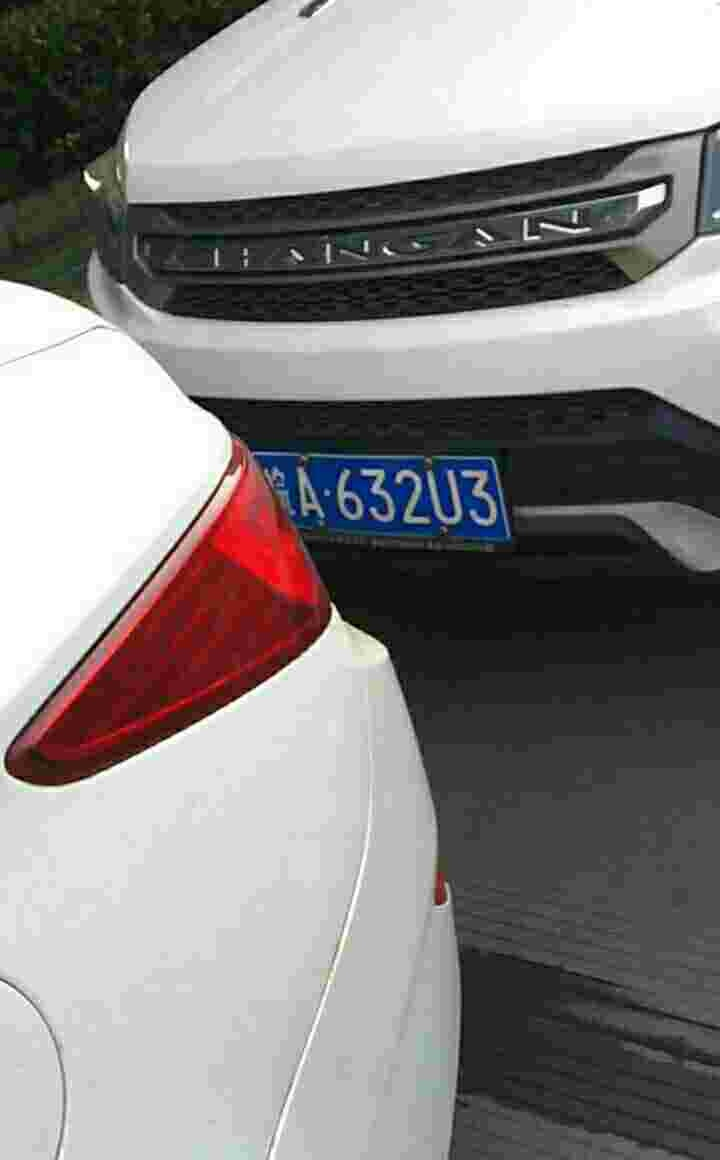license_plate: (263, 457, 523, 534)
